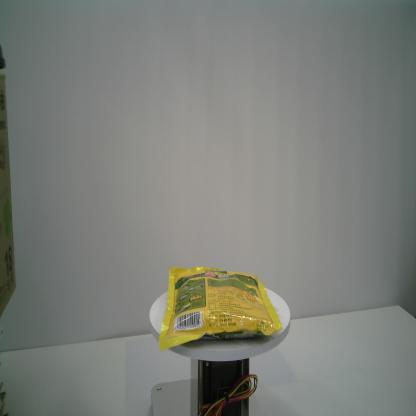Seasoner: (158, 266, 283, 352)
